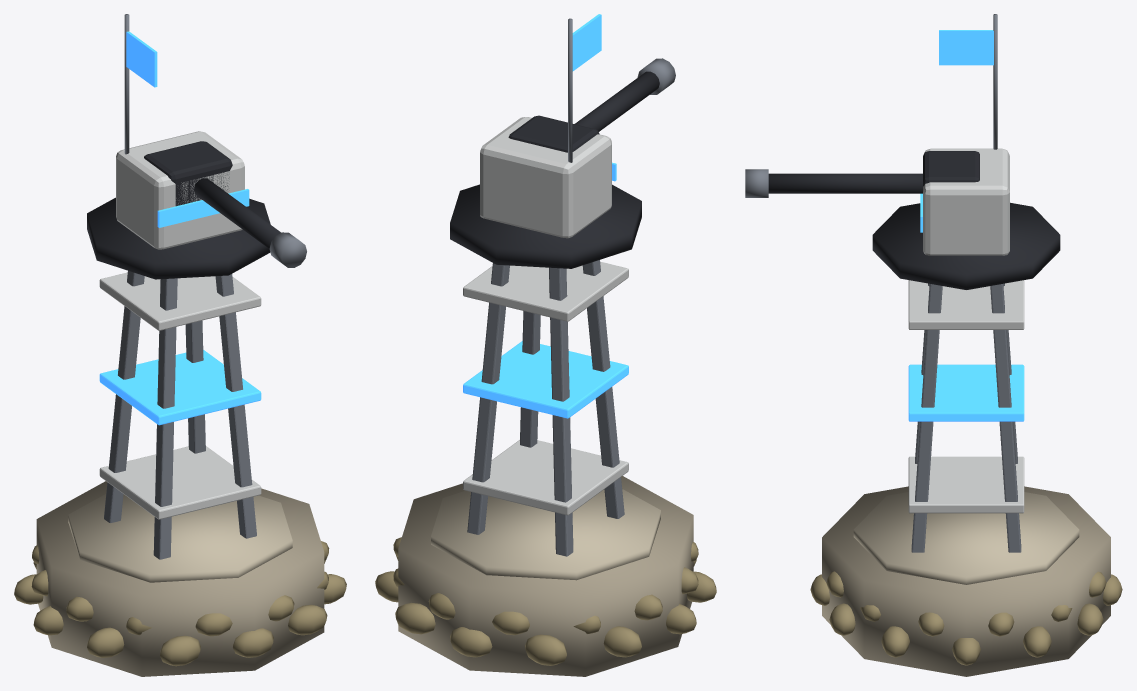
File: tower_blue.glb
The picture shows the model from 3 angles, left to right: view 1: azimuth 30°, elevation 25°; view 2: azimuth 150°, elevation 25°; view 3: azimuth 270°, elevation 25°; orthographic projection. The views are drawn at different scales.
Parts seen in each view (by area): view 1: base, part_white, part_steel, base2, part_dark, part_bluep, part_sand; view 2: base, part_white, part_steel, base2, part_dark, part_sand, part_bluep; view 3: base, part_white, part_dark, base2, part_steel, part_bluep, part_sand.
Boxes of the visible parts, left/top/right/bottom form: base: left=36, top=481, right=324, bottom=676; part_white: left=99, top=131, right=261, bottom=519; part_steel: left=104, top=14, right=306, bottom=559; base2: left=68, top=494, right=292, bottom=582; part_dark: left=87, top=141, right=281, bottom=279; part_bluep: left=99, top=31, right=261, bottom=425; part_sand: left=14, top=541, right=346, bottom=666; base: left=398, top=476, right=693, bottom=676; part_white: left=463, top=117, right=628, bottom=515; part_steel: left=467, top=18, right=675, bottom=556; base2: left=431, top=489, right=660, bottom=580; part_dark: left=450, top=71, right=659, bottom=268; part_sand: left=375, top=537, right=716, bottom=665; part_bluep: left=463, top=14, right=628, bottom=418; base: left=822, top=486, right=1110, bottom=676; part_white: left=908, top=148, right=1024, bottom=513; part_dark: left=768, top=151, right=1060, bottom=289; base2: left=853, top=492, right=1079, bottom=584; part_steel: left=745, top=14, right=1021, bottom=552; part_bluep: left=908, top=30, right=1024, bottom=421; part_sand: left=810, top=571, right=1122, bottom=665.
Bounding box in the file's own units: 2.28 × 4.45 × 2.61.
